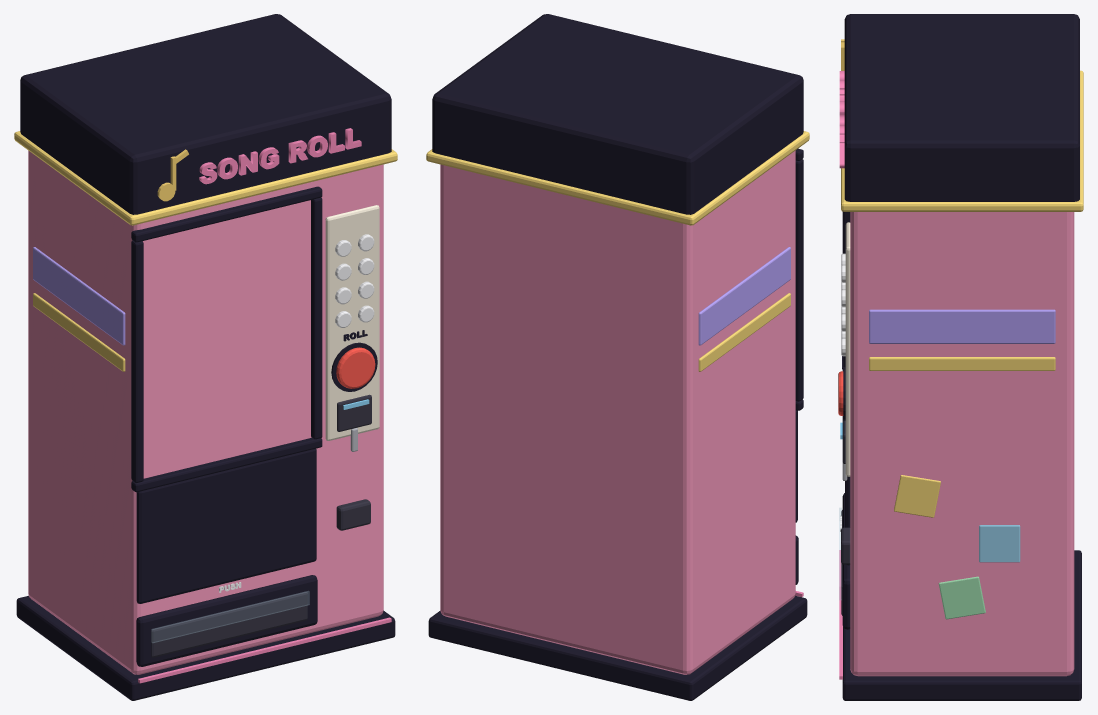
The model's file is StreetMachine_SongRoll.fbx.
The picture shows the model from 3 angles, left to right: view 1: azimuth 30°, elevation 25°; view 2: azimuth 150°, elevation 25°; view 3: azimuth 270°, elevation 25°; orthographic projection. The views are drawn at different scales.
Parts seen in each view (by area): view 1: Body, Neon_Pink, Glass; view 2: Body; view 3: Body, Neon_Pink.
Part boxes in pixels (x1,y1,x2,y2): Body: (14, 14, 397, 700); Neon_Pink: (138, 128, 391, 683); Glass: (151, 591, 309, 642); Body: (426, 14, 809, 700); Body: (838, 14, 1083, 700); Neon_Pink: (839, 71, 844, 679).
Bounding box in the file's own units: 4.25 × 8.25 × 3.29.
5 materials, 1 textured.
